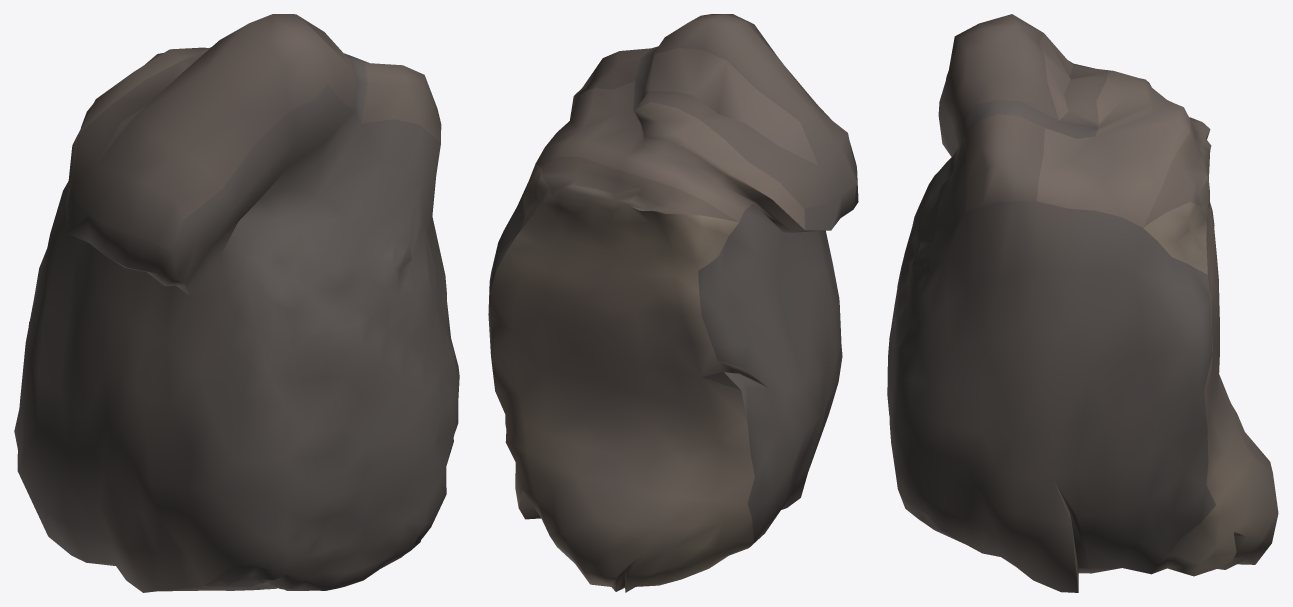
The model's file is RockHuge.002.glb.
3 renders of one model, left to right at view 1: azimuth 30°, elevation 25°; view 2: azimuth 150°, elevation 25°; view 3: azimuth 270°, elevation 25°, orthographic. The views are drawn at different scales.
Parts seen in each view (by area): view 1: RockHuge.002; view 2: RockHuge.002; view 3: RockHuge.002.
Boxes of the visible parts, x1=… form: RockHuge.002: x1=14, y1=14, x2=459, y2=592; RockHuge.002: x1=488, y1=14, x2=858, y2=592; RockHuge.002: x1=887, y1=14, x2=1278, y2=592.
Size of the model in its own units: 1884 by 2977 by 1946.
